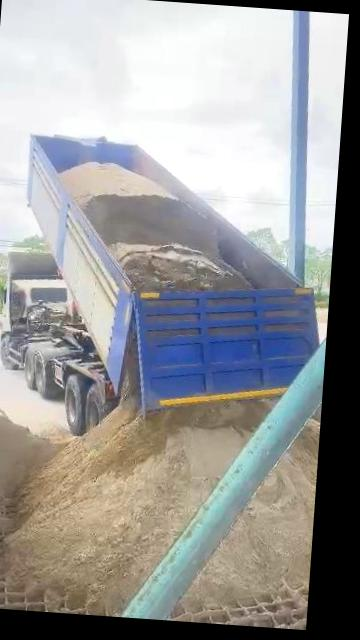sand: (8, 401, 269, 615), (184, 404, 322, 608), (60, 163, 250, 290), (0, 412, 82, 499)
